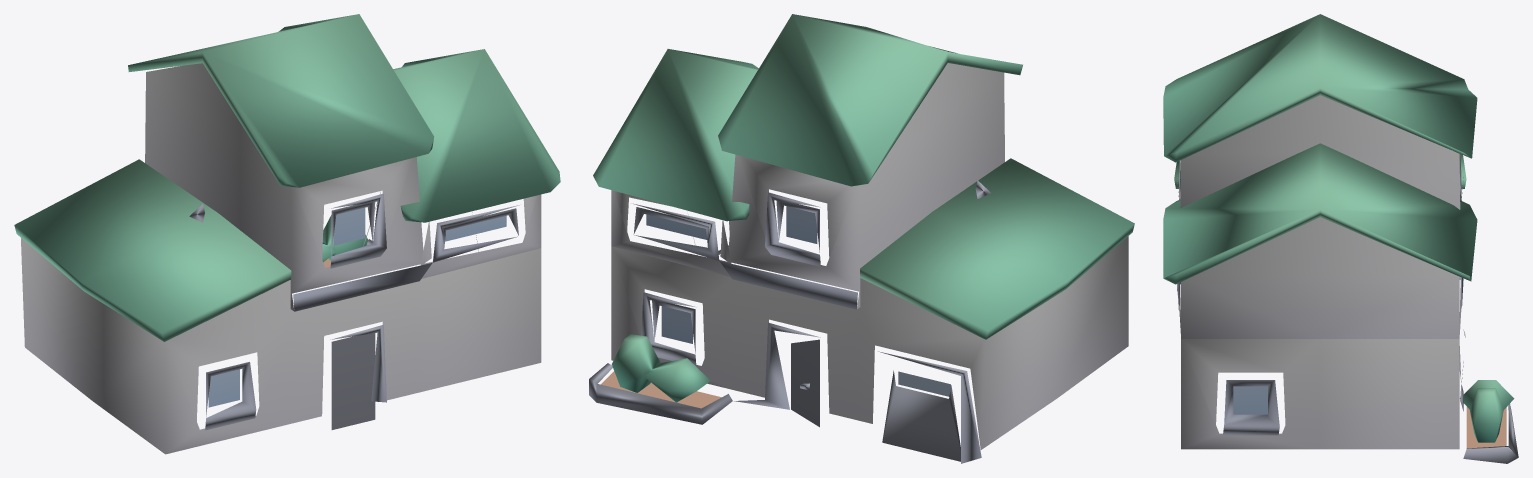
3 renders of one model, left to right at view 1: azimuth 30°, elevation 25°; view 2: azimuth 150°, elevation 25°; view 3: azimuth 270°, elevation 25°, orthographic. The views are drawn at different scales.
Size of the model in its own units: 10.29 by 8.27 by 8.17.
